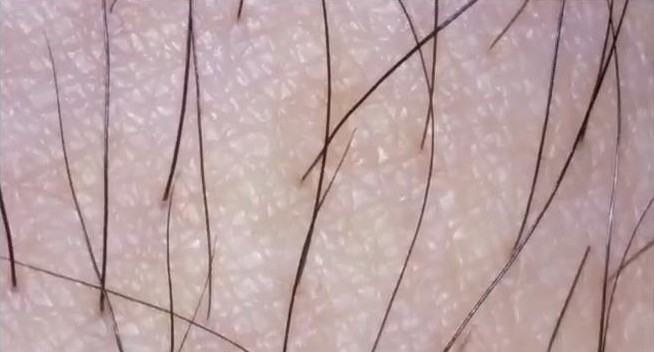mouse: (58, 0, 84, 26), (171, 0, 197, 26), (498, 0, 524, 26), (76, 1, 102, 27), (199, 1, 225, 27), (211, 1, 237, 27), (518, 1, 544, 27), (526, 1, 552, 27), (121, 2, 147, 28), (5, 3, 31, 29), (293, 3, 319, 29), (317, 3, 343, 29), (382, 3, 408, 29), (541, 3, 567, 29), (593, 3, 619, 29), (320, 4, 346, 30), (347, 4, 373, 30), (386, 4, 412, 30), (514, 4, 540, 30), (6, 5, 32, 31), (243, 5, 269, 31), (293, 5, 319, 31), (364, 5, 390, 31), (23, 6, 49, 32), (100, 6, 126, 32), (151, 6, 177, 32), (289, 6, 315, 32), (411, 6, 437, 32), (449, 6, 475, 32), (466, 6, 492, 32), (616, 6, 642, 32), (144, 7, 170, 33), (280, 7, 306, 33), (330, 7, 356, 33), (16, 8, 42, 34), (155, 8, 181, 34), (248, 8, 274, 34), (334, 9, 360, 35), (441, 9, 467, 35), (242, 10, 268, 36), (308, 10, 334, 36), (492, 10, 518, 36), (591, 10, 617, 36), (128, 11, 154, 37), (343, 11, 369, 37), (358, 11, 384, 37), (167, 12, 193, 38), (305, 12, 331, 38), (505, 12, 531, 38), (103, 13, 129, 39), (122, 13, 148, 39), (322, 14, 348, 40), (435, 14, 461, 40), (259, 15, 285, 41), (58, 16, 84, 42), (309, 16, 335, 42), (382, 17, 408, 43), (8, 18, 34, 44), (122, 18, 148, 44), (333, 18, 359, 44), (431, 18, 457, 44), (496, 18, 522, 44), (553, 18, 579, 44), (160, 19, 186, 45), (198, 19, 224, 45), (306, 19, 332, 45), (375, 19, 401, 45), (473, 19, 499, 45), (26, 20, 52, 46), (40, 20, 66, 46), (493, 20, 519, 46), (151, 21, 177, 47), (129, 22, 155, 48), (549, 22, 575, 48), (378, 23, 404, 49), (395, 23, 421, 49), (398, 23, 424, 49), (463, 23, 489, 49), (24, 24, 50, 50), (112, 24, 138, 50), (199, 24, 225, 50), (213, 24, 239, 50), (136, 25, 162, 51), (353, 25, 379, 51), (37, 26, 63, 52), (286, 26, 312, 52), (302, 26, 328, 52), (365, 26, 391, 52), (433, 26, 459, 52), (2, 27, 28, 53), (16, 27, 42, 53), (186, 27, 212, 53), (223, 27, 249, 53), (589, 27, 615, 53), (141, 28, 167, 54), (196, 28, 222, 54), (162, 29, 188, 55), (202, 29, 228, 55), (307, 29, 333, 55), (434, 29, 460, 55), (586, 29, 612, 55), (131, 30, 157, 56), (261, 30, 287, 56), (466, 30, 492, 56), (555, 30, 581, 56), (562, 30, 588, 56), (399, 31, 425, 57), (149, 32, 175, 58), (330, 32, 356, 58), (539, 32, 565, 58), (619, 32, 645, 58), (394, 33, 420, 59), (203, 34, 229, 60), (487, 34, 513, 60), (24, 35, 50, 61), (208, 35, 234, 61), (217, 35, 243, 61), (262, 35, 288, 61), (279, 35, 305, 61), (332, 35, 358, 61), (435, 35, 461, 61), (548, 35, 574, 61), (552, 37, 578, 63), (388, 38, 414, 64), (40, 39, 66, 65), (148, 39, 174, 65), (211, 39, 237, 65), (387, 40, 413, 66), (41, 41, 67, 67), (198, 41, 224, 67), (336, 41, 362, 67), (558, 41, 584, 67), (563, 41, 589, 67), (21, 42, 47, 68), (270, 42, 296, 68), (545, 42, 571, 68), (283, 43, 309, 69), (328, 43, 354, 69), (13, 44, 39, 70), (333, 44, 359, 70), (381, 44, 407, 70), (62, 45, 88, 71), (193, 45, 219, 71), (271, 45, 297, 71), (222, 46, 248, 72), (260, 46, 286, 72), (281, 46, 307, 72), (398, 46, 424, 72), (403, 46, 429, 72), (75, 47, 101, 73), (186, 47, 212, 73), (297, 47, 323, 73), (608, 47, 634, 73), (197, 49, 223, 75), (210, 49, 236, 75), (232, 49, 258, 75), (321, 49, 347, 75), (326, 49, 352, 75), (579, 49, 605, 75), (609, 49, 635, 75), (30, 50, 56, 76), (249, 50, 275, 76), (266, 50, 292, 76), (309, 50, 335, 76), (486, 50, 512, 76), (191, 51, 217, 77), (279, 51, 305, 77), (373, 51, 399, 77), (255, 52, 281, 78), (123, 53, 149, 79), (432, 54, 458, 80), (473, 54, 499, 80), (48, 55, 74, 81), (131, 55, 157, 81), (133, 55, 159, 81), (134, 55, 160, 81), (248, 55, 274, 81), (290, 55, 316, 81), (391, 55, 417, 81), (486, 55, 512, 81), (576, 56, 602, 82), (30, 57, 56, 83), (533, 57, 559, 83), (579, 57, 605, 83), (26, 58, 52, 84), (122, 58, 148, 84), (608, 58, 634, 84), (67, 59, 93, 85), (223, 59, 249, 85), (251, 59, 277, 85), (336, 59, 362, 85), (423, 59, 449, 85), (33, 61, 59, 87), (130, 61, 156, 87), (246, 61, 272, 87), (423, 61, 449, 87), (425, 61, 451, 87), (441, 61, 467, 87), (235, 62, 261, 88), (270, 62, 296, 88), (349, 62, 375, 88), (222, 63, 248, 89), (336, 63, 362, 89), (427, 63, 453, 89), (532, 63, 558, 89), (121, 64, 147, 90), (144, 64, 170, 90), (266, 64, 292, 90), (116, 65, 142, 91), (117, 65, 143, 91), (292, 65, 318, 91), (455, 65, 481, 91), (138, 66, 164, 92), (210, 66, 236, 92), (249, 66, 275, 92), (311, 66, 337, 92), (114, 67, 140, 93), (202, 67, 228, 93), (400, 67, 426, 93), (437, 67, 463, 93), (447, 67, 473, 93), (543, 67, 569, 93), (117, 68, 143, 94), (133, 68, 159, 94), (403, 68, 429, 94), (123, 69, 149, 95), (219, 69, 245, 95), (268, 69, 294, 95), (545, 69, 571, 95), (46, 70, 72, 96), (111, 70, 137, 96), (130, 70, 156, 96), (153, 70, 179, 96), (159, 70, 185, 96), (308, 70, 334, 96), (330, 70, 356, 96), (556, 70, 582, 96), (115, 71, 141, 97), (117, 71, 143, 97), (264, 71, 290, 97), (305, 71, 331, 97), (18, 72, 44, 98), (241, 72, 267, 98), (408, 72, 434, 98), (452, 72, 478, 98), (449, 73, 475, 99), (17, 74, 43, 100), (162, 74, 188, 100), (277, 74, 303, 100), (412, 74, 438, 100), (463, 74, 489, 100), (577, 74, 603, 100), (609, 74, 635, 100), (8, 75, 34, 101), (200, 75, 226, 101), (284, 75, 310, 101), (335, 75, 361, 101), (395, 75, 421, 101), (592, 75, 618, 101), (140, 76, 166, 102), (163, 76, 189, 102), (366, 76, 392, 102), (123, 77, 149, 103), (189, 77, 215, 103), (198, 77, 224, 103), (393, 78, 419, 104), (485, 78, 511, 104), (367, 79, 393, 105), (263, 80, 289, 106), (167, 81, 193, 107), (412, 81, 438, 107), (462, 81, 488, 107), (470, 81, 496, 107), (114, 82, 140, 108), (156, 82, 182, 108), (167, 82, 193, 108), (303, 82, 329, 108), (423, 82, 449, 108), (587, 82, 613, 108), (601, 82, 627, 108), (109, 83, 135, 109), (255, 83, 281, 109), (455, 83, 481, 109), (244, 84, 270, 110), (373, 84, 399, 110), (483, 84, 509, 110), (532, 84, 558, 110), (153, 85, 179, 111), (202, 85, 228, 111), (211, 85, 237, 111), (214, 85, 240, 111), (432, 85, 458, 111), (41, 86, 67, 112), (61, 86, 87, 112), (127, 86, 153, 112), (272, 86, 298, 112), (426, 86, 452, 112), (110, 87, 136, 113), (198, 87, 224, 113), (359, 87, 385, 113), (398, 87, 424, 113), (423, 87, 449, 113), (367, 88, 393, 114), (421, 88, 447, 114), (120, 89, 146, 115), (288, 89, 314, 115), (458, 89, 484, 115), (572, 89, 598, 115), (574, 89, 600, 115), (426, 90, 452, 116), (610, 90, 636, 116), (216, 91, 242, 117), (282, 91, 308, 117), (423, 91, 449, 117), (474, 91, 500, 117), (584, 91, 610, 117), (10, 92, 36, 118), (277, 92, 303, 118), (556, 92, 582, 118), (99, 93, 125, 119), (307, 93, 333, 119), (406, 93, 432, 119), (490, 93, 516, 119), (539, 94, 565, 120), (233, 95, 259, 121), (388, 95, 414, 121), (104, 96, 130, 122), (4, 97, 30, 123), (5, 97, 31, 123), (163, 97, 189, 123), (243, 97, 269, 123), (396, 97, 422, 123), (582, 97, 608, 123), (621, 97, 647, 123), (104, 98, 130, 124), (121, 98, 147, 124), (175, 98, 201, 124), (229, 98, 255, 124), (248, 98, 274, 124), (463, 98, 489, 124), (610, 98, 636, 124), (132, 99, 158, 125), (263, 99, 289, 125), (559, 99, 585, 125), (144, 100, 170, 126), (341, 100, 367, 126), (125, 101, 151, 127), (137, 101, 163, 127), (139, 101, 165, 127), (141, 101, 167, 127), (228, 101, 254, 127), (268, 101, 294, 127), (272, 101, 298, 127), (384, 101, 410, 127), (83, 102, 109, 128), (132, 102, 158, 128), (179, 102, 205, 128), (239, 102, 265, 128), (610, 102, 636, 128), (137, 103, 163, 129), (179, 103, 205, 129), (376, 103, 402, 129), (440, 103, 466, 129), (537, 103, 563, 129), (12, 104, 38, 130), (30, 104, 56, 130), (108, 104, 134, 130), (120, 104, 146, 130), (136, 104, 162, 130), (619, 104, 645, 130), (163, 105, 189, 131), (482, 105, 508, 131), (77, 106, 103, 132), (113, 106, 139, 132), (213, 106, 239, 132), (423, 106, 449, 132), (103, 107, 129, 133), (244, 107, 270, 133), (379, 107, 405, 133), (388, 107, 414, 133), (78, 108, 104, 134), (111, 109, 137, 135), (263, 109, 289, 135), (44, 110, 70, 136), (78, 110, 104, 136), (81, 110, 107, 136), (86, 110, 112, 136), (204, 110, 230, 136), (227, 110, 253, 136), (308, 110, 334, 136), (587, 110, 613, 136), (611, 110, 637, 136), (36, 111, 62, 137), (224, 111, 250, 137), (583, 111, 609, 137), (70, 112, 96, 138), (431, 112, 457, 138), (173, 113, 199, 139), (177, 113, 203, 139), (207, 113, 233, 139), (577, 113, 603, 139), (180, 114, 206, 140), (268, 114, 294, 140), (307, 114, 333, 140), (407, 114, 433, 140), (442, 114, 468, 140), (30, 115, 56, 141), (81, 115, 107, 141), (177, 115, 203, 141), (216, 115, 242, 141), (224, 116, 250, 142), (341, 116, 367, 142), (484, 116, 510, 142), (477, 117, 503, 143), (271, 118, 297, 144), (357, 118, 383, 144), (446, 118, 472, 144), (458, 118, 484, 144), (308, 119, 334, 145), (436, 119, 462, 145), (541, 119, 567, 145), (117, 120, 143, 146), (129, 120, 155, 146), (432, 120, 458, 146), (526, 120, 552, 146), (227, 121, 253, 147), (268, 121, 294, 147), (156, 123, 182, 149), (159, 123, 185, 149), (203, 123, 229, 149), (541, 124, 567, 150), (364, 125, 390, 151), (556, 125, 582, 151), (600, 126, 626, 152), (60, 127, 86, 153), (150, 127, 176, 153), (355, 127, 381, 153), (555, 127, 581, 153), (42, 128, 68, 154), (154, 128, 180, 154), (159, 128, 185, 154), (381, 128, 407, 154), (213, 129, 239, 155), (390, 129, 416, 155), (112, 130, 138, 156), (383, 130, 409, 156), (80, 131, 106, 157), (153, 131, 179, 157), (156, 131, 182, 157), (454, 131, 480, 157), (117, 132, 143, 158), (150, 132, 176, 158), (423, 133, 449, 159), (465, 133, 491, 159), (200, 134, 226, 160), (518, 134, 544, 160), (609, 134, 635, 160), (23, 135, 49, 161), (44, 135, 70, 161), (341, 135, 367, 161), (394, 135, 420, 161), (613, 135, 639, 161), (537, 136, 563, 162), (523, 137, 549, 163), (547, 137, 573, 163), (80, 138, 106, 164), (304, 138, 330, 164), (457, 138, 483, 164), (554, 138, 580, 164), (301, 139, 327, 165), (339, 139, 365, 165), (597, 139, 623, 165), (122, 140, 148, 166), (75, 141, 101, 167), (78, 141, 104, 167), (80, 141, 106, 167), (298, 141, 324, 167), (195, 142, 221, 168), (229, 143, 255, 169), (336, 143, 362, 169), (376, 143, 402, 169), (105, 144, 131, 170), (363, 145, 389, 171), (564, 145, 590, 171), (18, 146, 44, 172), (344, 146, 370, 172), (539, 147, 565, 173), (548, 147, 574, 173), (13, 148, 39, 174), (423, 148, 449, 174), (85, 149, 111, 175), (118, 149, 144, 175), (560, 149, 586, 175), (614, 149, 640, 175), (62, 150, 88, 176), (70, 150, 96, 176), (74, 150, 100, 176), (154, 150, 180, 176), (223, 150, 249, 176), (587, 150, 613, 176), (589, 150, 615, 176), (193, 151, 219, 177), (291, 151, 317, 177), (349, 151, 375, 177), (358, 151, 384, 177), (387, 152, 413, 178), (442, 152, 468, 178), (445, 152, 471, 178), (609, 152, 635, 178), (85, 153, 111, 179), (27, 154, 53, 180), (607, 154, 633, 180), (12, 155, 38, 181), (85, 155, 111, 181), (195, 155, 221, 181), (200, 155, 226, 181), (273, 155, 299, 181), (177, 156, 203, 182), (576, 156, 602, 182), (173, 157, 199, 183), (264, 157, 290, 183), (538, 157, 564, 183), (85, 158, 111, 184), (327, 159, 353, 185), (535, 159, 561, 185), (98, 160, 124, 186), (266, 160, 292, 186), (330, 160, 356, 186), (340, 160, 366, 186), (395, 160, 421, 186), (35, 162, 61, 188), (85, 162, 111, 188), (153, 162, 179, 188), (350, 162, 376, 188), (596, 162, 622, 188), (373, 163, 399, 189), (433, 163, 459, 189), (398, 164, 424, 190), (401, 164, 427, 190), (116, 165, 142, 191), (365, 165, 391, 191), (382, 165, 408, 191), (551, 165, 577, 191), (624, 165, 650, 191), (41, 166, 67, 192), (194, 166, 220, 192), (204, 166, 230, 192), (610, 166, 636, 192), (61, 167, 87, 193), (66, 167, 92, 193), (68, 167, 94, 193), (168, 167, 194, 193), (374, 167, 400, 193), (607, 167, 633, 193), (22, 168, 48, 194), (224, 168, 250, 194), (104, 169, 130, 195), (366, 169, 392, 195), (394, 169, 420, 195), (146, 170, 172, 196), (182, 170, 208, 196), (271, 170, 297, 196), (528, 170, 554, 196), (29, 171, 55, 197), (70, 171, 96, 197), (107, 171, 133, 197), (119, 171, 145, 197), (411, 171, 437, 197), (538, 171, 564, 197), (83, 172, 109, 198), (403, 172, 429, 198), (66, 173, 92, 199), (173, 173, 199, 199), (610, 173, 636, 199), (46, 175, 72, 201), (97, 175, 123, 201), (322, 175, 348, 201), (182, 176, 208, 202), (604, 176, 630, 202), (31, 177, 57, 203), (216, 178, 242, 204), (292, 178, 318, 204), (622, 178, 648, 204), (35, 179, 61, 205), (223, 179, 249, 205), (486, 179, 512, 205), (167, 180, 193, 206), (75, 181, 101, 207), (244, 181, 270, 207), (531, 181, 557, 207), (392, 182, 418, 208), (405, 182, 431, 208), (408, 182, 434, 208), (477, 182, 503, 208), (523, 183, 549, 209), (547, 183, 573, 209), (234, 185, 260, 211), (7, 186, 33, 212), (261, 186, 287, 212), (368, 186, 394, 212), (384, 186, 410, 212), (3, 187, 29, 213), (257, 187, 283, 213), (367, 187, 393, 213), (80, 188, 106, 214), (121, 188, 147, 214), (464, 188, 490, 214), (544, 188, 570, 214), (50, 189, 76, 215), (197, 189, 223, 215), (541, 189, 567, 215), (87, 190, 113, 216), (106, 190, 132, 216), (126, 190, 152, 216), (539, 190, 565, 216), (200, 191, 226, 217), (610, 191, 636, 217), (618, 191, 644, 217), (53, 192, 79, 218), (87, 193, 113, 219), (279, 193, 305, 219), (460, 193, 486, 219), (464, 193, 490, 219), (132, 194, 158, 220), (258, 194, 284, 220), (264, 194, 290, 220), (610, 194, 636, 220), (311, 196, 337, 222), (538, 196, 564, 222), (103, 197, 129, 223), (223, 197, 249, 223), (98, 198, 124, 224), (207, 198, 233, 224), (220, 199, 246, 225), (317, 199, 343, 225), (339, 199, 365, 225), (246, 200, 272, 226), (198, 201, 224, 227), (205, 201, 231, 227), (536, 201, 562, 227), (118, 202, 144, 228), (253, 202, 279, 228), (291, 203, 317, 229), (538, 203, 564, 229), (118, 204, 144, 230), (188, 204, 214, 230), (591, 204, 617, 230), (102, 206, 128, 232), (126, 206, 152, 232), (127, 206, 153, 232), (239, 206, 265, 232), (75, 207, 101, 233), (331, 207, 357, 233), (27, 208, 53, 234), (415, 209, 441, 235), (621, 210, 647, 236), (20, 211, 46, 237), (65, 211, 91, 237), (309, 211, 335, 237), (355, 212, 381, 238), (387, 212, 413, 238), (415, 212, 441, 238), (290, 214, 316, 240), (348, 214, 374, 240), (25, 215, 51, 241), (137, 215, 163, 241), (528, 215, 554, 241), (133, 216, 159, 242), (221, 216, 247, 242), (409, 216, 435, 242), (137, 217, 163, 243), (337, 217, 363, 243), (23, 218, 49, 244), (238, 218, 264, 244), (244, 218, 270, 244), (258, 218, 284, 244), (303, 218, 329, 244), (339, 218, 365, 244), (394, 218, 420, 244), (400, 218, 426, 244), (616, 218, 642, 244), (89, 219, 115, 245), (238, 220, 264, 246), (264, 220, 290, 246), (319, 220, 345, 246), (605, 220, 631, 246), (132, 221, 158, 247), (175, 221, 201, 247), (190, 221, 216, 247), (615, 221, 641, 247), (625, 221, 651, 247), (15, 222, 41, 248), (226, 222, 252, 248), (594, 222, 620, 248), (324, 223, 350, 249), (342, 223, 368, 249), (140, 224, 166, 250), (2, 225, 28, 251), (350, 225, 376, 251), (521, 225, 547, 251), (593, 225, 619, 251), (184, 226, 210, 252), (192, 226, 218, 252), (206, 226, 232, 252), (262, 226, 288, 252), (300, 226, 326, 252), (23, 227, 49, 253), (84, 227, 110, 253), (363, 227, 389, 253), (394, 227, 420, 253), (171, 228, 197, 254), (179, 228, 205, 254), (396, 228, 422, 254), (114, 229, 140, 255), (405, 229, 431, 255), (192, 230, 218, 256), (347, 230, 373, 256), (4, 231, 30, 257), (325, 231, 351, 257), (518, 231, 544, 257), (166, 232, 192, 258), (514, 232, 540, 258), (623, 232, 649, 258), (69, 233, 95, 259), (140, 233, 166, 259), (161, 234, 187, 260), (287, 234, 313, 260), (372, 234, 398, 260), (488, 234, 514, 260), (165, 235, 191, 261), (208, 235, 234, 261), (357, 235, 383, 261), (250, 236, 276, 262), (114, 237, 140, 263), (143, 237, 169, 263), (143, 238, 169, 264), (393, 238, 419, 264), (433, 238, 459, 264), (584, 238, 610, 264), (361, 239, 387, 265), (297, 240, 323, 266), (328, 240, 354, 266), (331, 240, 357, 266), (284, 241, 310, 267), (590, 241, 616, 267), (140, 242, 166, 268), (144, 242, 170, 268), (256, 242, 282, 268), (308, 242, 334, 268), (107, 243, 133, 269), (141, 243, 167, 269), (353, 243, 379, 269), (442, 243, 468, 269), (296, 245, 322, 271), (598, 245, 624, 271), (358, 246, 384, 272), (314, 247, 340, 273), (431, 247, 457, 273), (118, 248, 144, 274), (408, 248, 434, 274), (150, 249, 176, 275), (97, 250, 123, 276), (159, 250, 185, 276), (251, 250, 277, 276), (357, 250, 383, 276), (438, 250, 464, 276), (310, 251, 336, 277), (518, 252, 544, 278), (604, 252, 630, 278), (146, 253, 172, 279), (162, 253, 188, 279), (356, 254, 382, 280), (366, 254, 392, 280), (600, 254, 626, 280), (294, 255, 320, 281), (362, 255, 388, 281), (486, 255, 512, 281), (44, 256, 70, 282), (282, 256, 308, 282), (404, 256, 430, 282), (216, 257, 242, 283), (521, 257, 547, 283), (484, 258, 510, 284), (513, 258, 539, 284), (121, 259, 147, 285), (281, 259, 307, 285), (126, 260, 152, 286), (133, 260, 159, 286), (134, 260, 160, 286), (139, 260, 165, 286), (293, 260, 319, 286), (28, 261, 54, 287), (261, 261, 287, 287), (432, 261, 458, 287), (521, 261, 547, 287), (585, 261, 611, 287), (14, 262, 40, 288), (160, 262, 186, 288), (358, 262, 384, 288), (130, 263, 156, 289), (392, 263, 418, 289), (69, 264, 95, 290), (208, 264, 234, 290), (521, 264, 547, 290), (608, 264, 634, 290), (306, 265, 332, 291), (477, 265, 503, 291), (580, 265, 606, 291), (153, 266, 179, 292), (226, 266, 252, 292), (502, 266, 528, 292), (215, 267, 241, 293), (261, 268, 287, 294), (381, 268, 407, 294), (405, 268, 431, 294), (570, 268, 596, 294), (218, 269, 244, 295), (246, 269, 272, 295), (419, 269, 445, 295), (429, 269, 455, 295), (516, 269, 542, 295), (58, 270, 84, 296), (399, 270, 425, 296), (412, 270, 438, 296), (160, 271, 186, 297), (200, 271, 226, 297), (469, 272, 495, 298), (490, 272, 516, 298), (566, 272, 592, 298), (94, 273, 120, 299), (116, 273, 142, 299), (188, 273, 214, 299), (30, 274, 56, 300), (110, 274, 136, 300), (379, 274, 405, 300), (393, 274, 419, 300), (470, 274, 496, 300), (34, 275, 60, 301), (67, 275, 93, 301), (425, 275, 451, 301), (432, 275, 458, 301), (103, 276, 129, 302), (104, 276, 130, 302), (134, 276, 160, 302), (219, 276, 245, 302), (445, 276, 471, 302), (494, 276, 520, 302), (378, 277, 404, 303), (581, 277, 607, 303), (74, 278, 100, 304), (261, 278, 287, 304), (312, 278, 338, 304), (343, 278, 369, 304), (488, 279, 514, 305), (490, 279, 516, 305), (464, 280, 490, 306), (479, 280, 505, 306), (496, 280, 522, 306), (124, 281, 150, 307), (346, 281, 372, 307), (118, 282, 144, 308), (162, 282, 188, 308), (314, 282, 340, 308), (344, 282, 370, 308), (483, 282, 509, 308), (130, 283, 156, 309), (295, 283, 321, 309), (259, 284, 285, 310), (302, 285, 328, 311), (14, 286, 40, 312), (107, 286, 133, 312), (200, 286, 226, 312), (9, 287, 35, 313), (139, 288, 165, 314), (385, 288, 411, 314), (397, 288, 423, 314), (142, 290, 168, 316), (147, 290, 173, 316), (227, 290, 253, 316), (306, 290, 332, 316), (482, 290, 508, 316), (581, 290, 607, 316), (19, 291, 45, 317), (178, 291, 204, 317), (222, 291, 248, 317), (497, 291, 523, 317), (452, 292, 478, 318), (10, 293, 36, 319), (30, 293, 56, 319), (41, 293, 67, 319), (469, 293, 495, 319), (130, 294, 156, 320), (451, 294, 477, 320), (11, 295, 37, 321), (316, 295, 342, 321), (494, 295, 520, 321), (22, 296, 48, 322), (74, 296, 100, 322), (162, 296, 188, 322), (166, 296, 192, 322), (230, 296, 256, 322), (321, 296, 347, 322), (3, 297, 29, 323), (172, 297, 198, 323), (565, 297, 591, 323), (113, 298, 139, 324), (384, 298, 410, 324), (450, 298, 476, 324), (471, 298, 497, 324), (475, 298, 501, 324), (370, 299, 396, 325), (108, 300, 134, 326), (466, 300, 492, 326), (601, 301, 627, 327), (25, 302, 51, 328), (143, 302, 169, 328), (230, 302, 256, 328), (311, 302, 337, 328), (43, 303, 69, 329), (323, 303, 349, 329), (466, 303, 492, 329), (269, 304, 295, 330), (498, 304, 524, 330), (554, 304, 580, 330), (354, 305, 380, 331), (367, 305, 393, 331), (448, 305, 474, 331), (122, 306, 148, 332), (200, 306, 226, 332), (264, 306, 290, 332), (465, 306, 491, 332), (21, 307, 47, 333), (59, 307, 85, 333), (327, 307, 353, 333), (446, 307, 472, 333), (461, 307, 487, 333), (491, 307, 517, 333), (363, 308, 389, 334), (442, 308, 468, 334), (37, 309, 63, 335), (111, 309, 137, 335), (144, 309, 170, 335), (20, 310, 46, 336), (501, 310, 527, 336), (26, 311, 52, 337), (108, 312, 134, 338), (463, 312, 489, 338), (549, 312, 575, 338), (59, 313, 85, 339), (143, 313, 169, 339), (208, 313, 234, 339), (262, 314, 288, 340), (433, 314, 459, 340), (441, 314, 467, 340), (299, 315, 325, 341), (12, 317, 38, 343), (183, 317, 209, 343), (255, 317, 281, 343), (189, 318, 215, 344), (251, 318, 277, 344), (390, 318, 416, 344), (71, 320, 97, 346), (148, 320, 174, 346), (285, 320, 311, 346), (375, 320, 401, 346), (396, 320, 422, 346), (421, 320, 447, 346), (466, 320, 492, 346), (80, 322, 106, 348), (298, 322, 324, 348), (434, 322, 460, 348), (110, 323, 136, 349), (267, 323, 293, 349), (436, 323, 462, 349), (176, 324, 202, 350), (260, 324, 286, 350), (307, 324, 333, 350), (279, 325, 305, 351), (582, 325, 608, 351), (315, 326, 341, 352), (350, 326, 376, 352), (391, 326, 417, 352), (547, 326, 573, 352)
